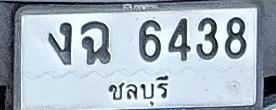3: (196, 17, 218, 59)
4: (168, 18, 190, 61)
6: (139, 19, 161, 62)
8: (224, 16, 246, 58)
A07: (48, 22, 72, 64)
A09: (80, 20, 110, 64)
CBI: (104, 72, 172, 107)
